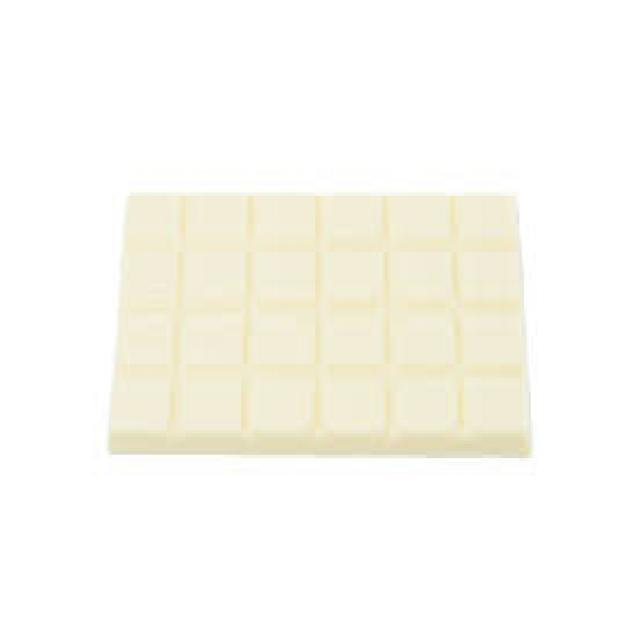Chocolate: (110, 191, 536, 459)
